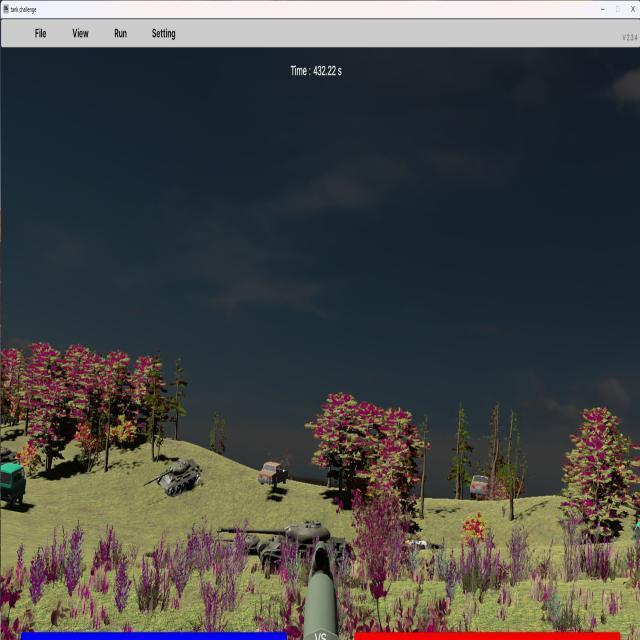Tank: (218, 519, 356, 579), (144, 458, 202, 497)
car: (0, 462, 26, 506), (257, 461, 288, 488)
